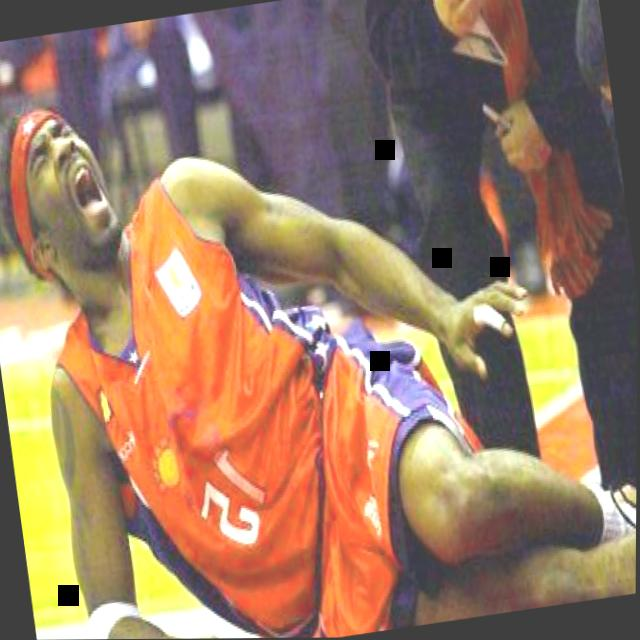Fall-Detected: (0, 5, 640, 640)
